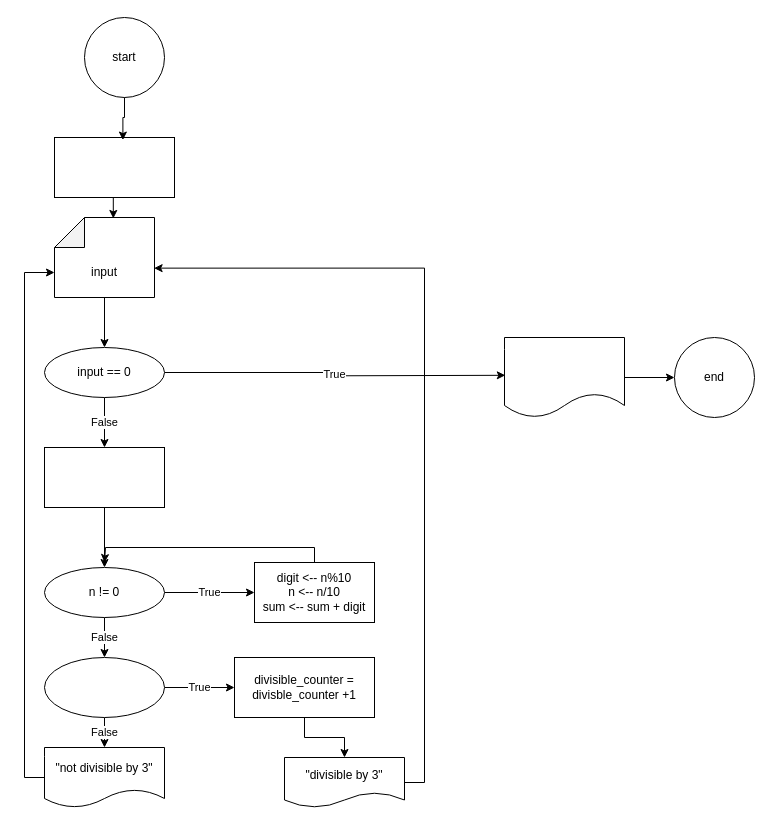
This 772x825 diagram has some shape labels left out. The shapes that lost their labels are listed below. From the top down, each one's centre as x and y in pixels, then its label:
point (114, 167): divisible_counter <-- 0
point (564, 377): "these many inputs were divisible by 3:" divisible_counter
point (104, 477): sum <--0, digit<--0, n<-- input
point (104, 687): sum == 3 OR sum == 6 OR sum == 9
